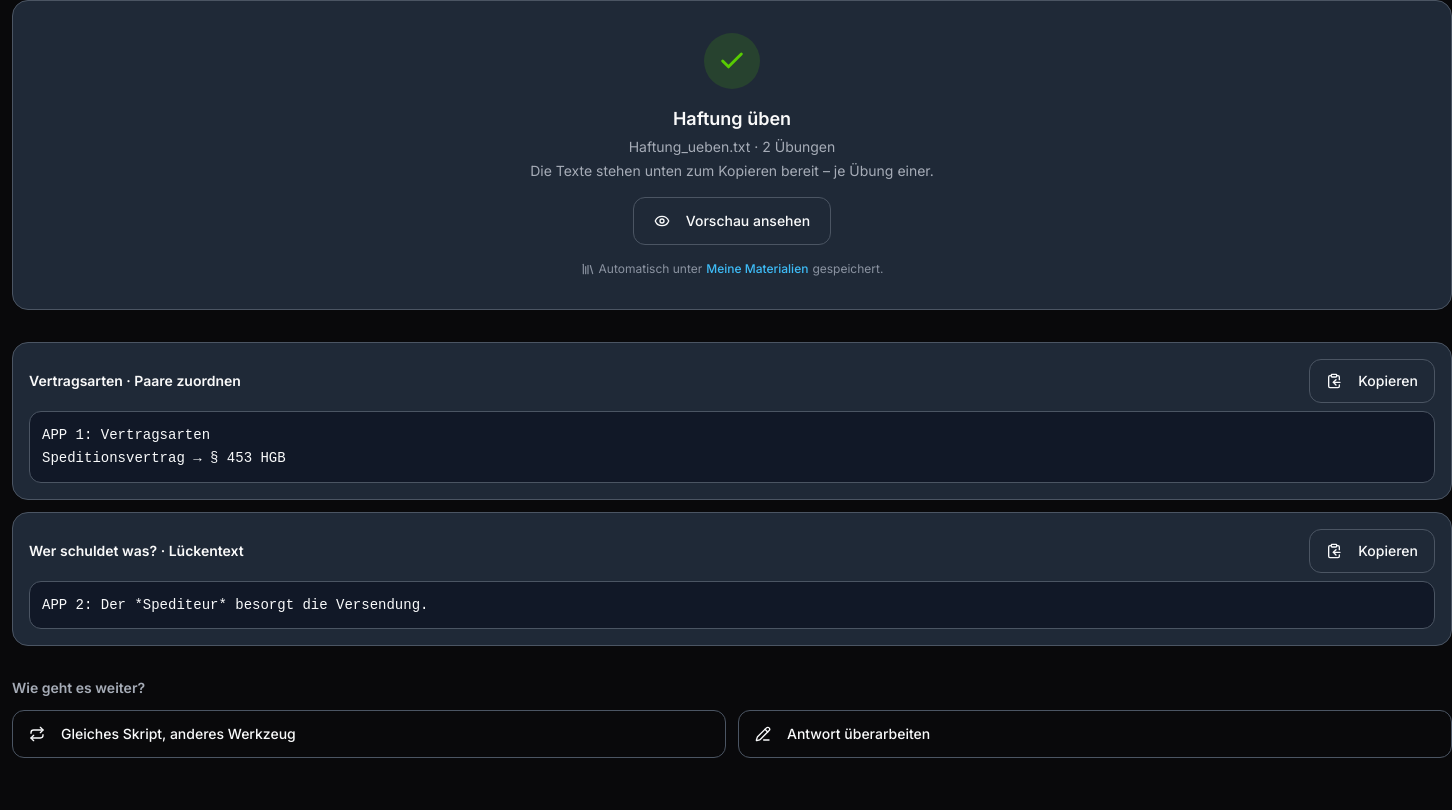
Test: Schritt 5 bei LearningApps: Text zum Kopieren (PROJ-54, Paket B) › kopiert genau den Text der gewählten Übung
Click the button named "Kopieren: Wer schuldet was": (1372, 550) [1309, 528, 1435, 572]
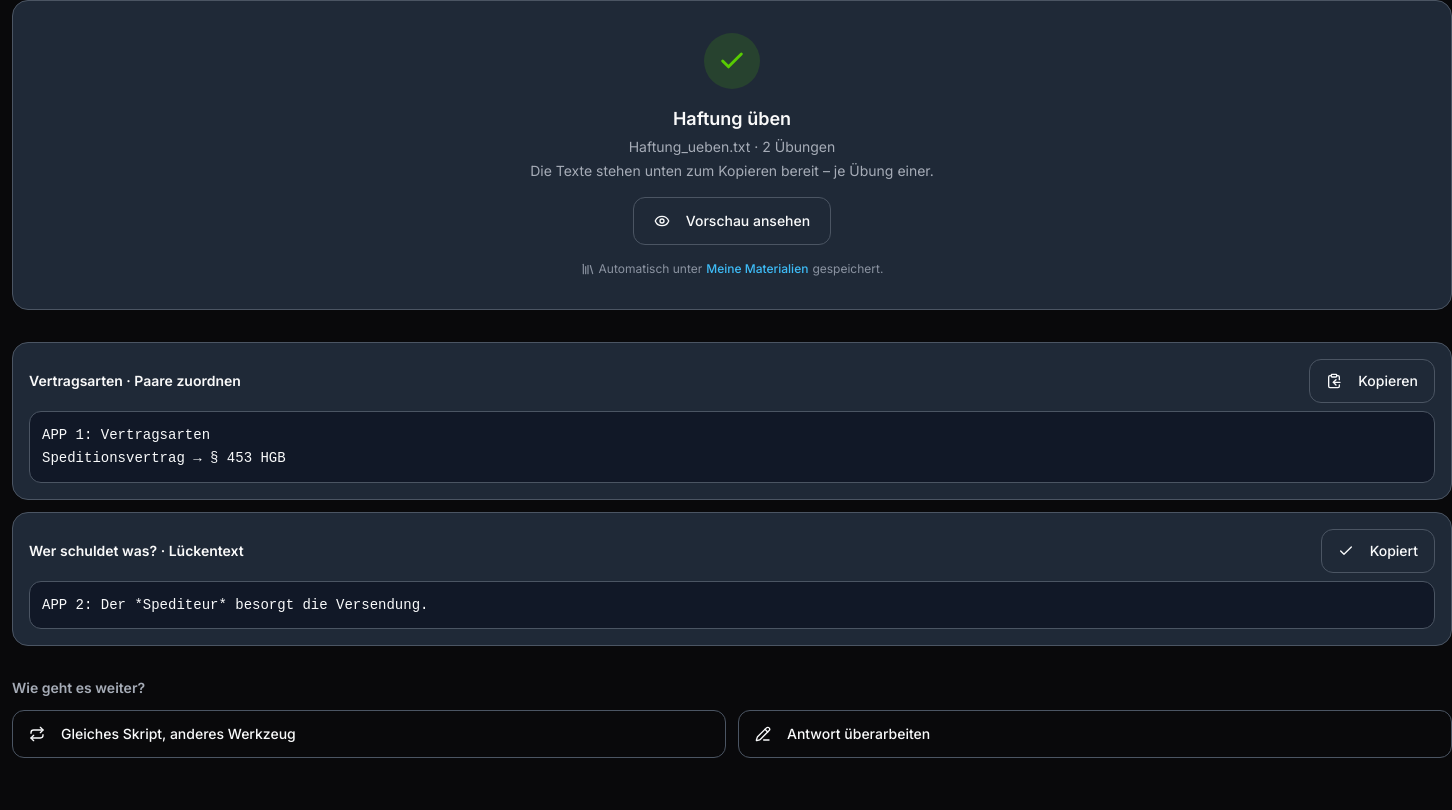
Expected: the button "Kopiert" is shown, [1321, 528, 1435, 572]
